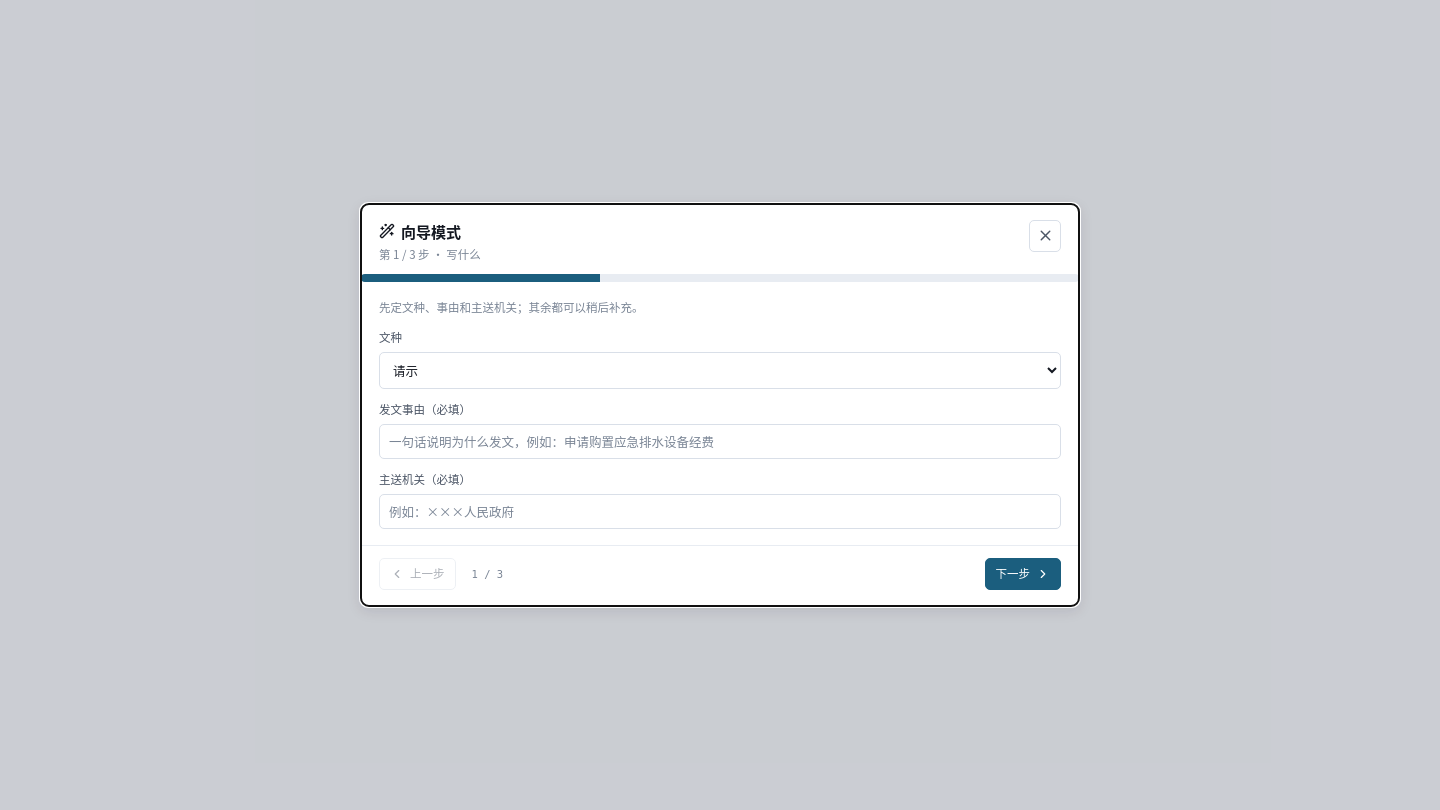
Scenario: DraftWizard › does not submit without a model but offers provider settings
Type "开展汛前检查" into the field labelled "发文事由（必填）".
click(720, 442); type("开展汛前检查")  # box [379, 424, 1061, 459]
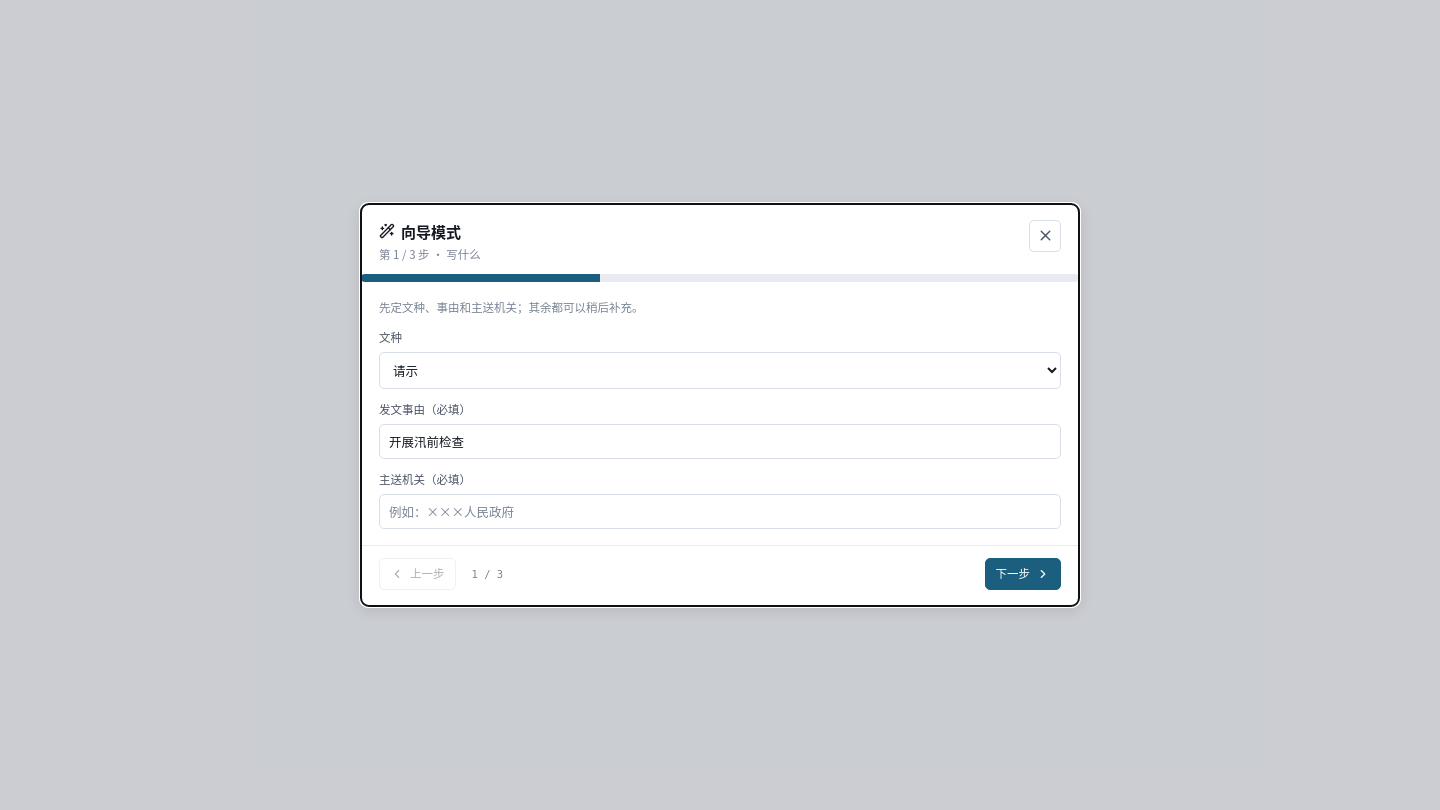
Type "×××单位" into the field labelled "主送机关（必填）".
click(720, 512); type("×××单位")  # box [379, 494, 1061, 529]
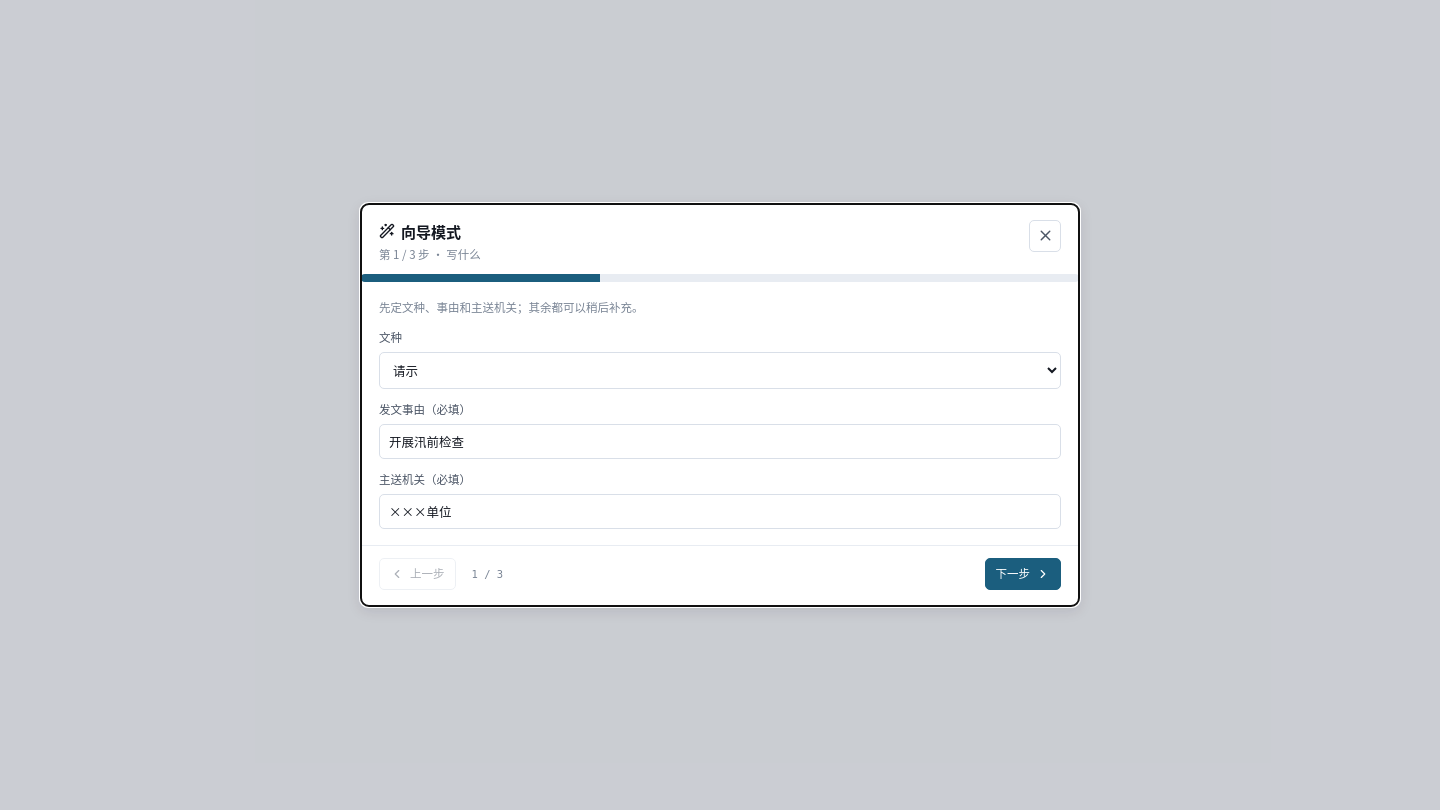
Click the button "下一步".
click(1023, 574)  # box [984, 558, 1061, 590]
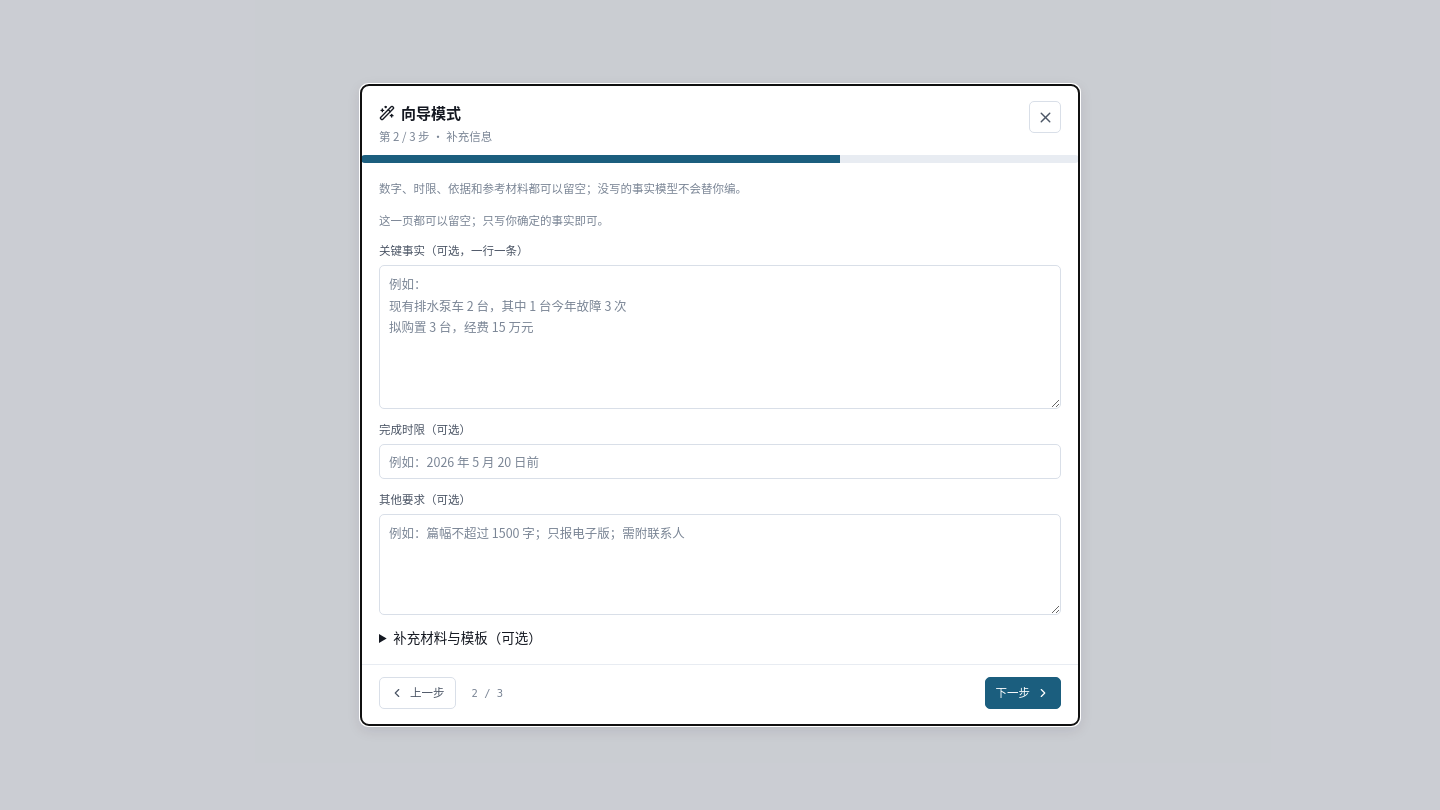
Click the button "下一步".
click(1023, 693)  # box [984, 677, 1061, 709]
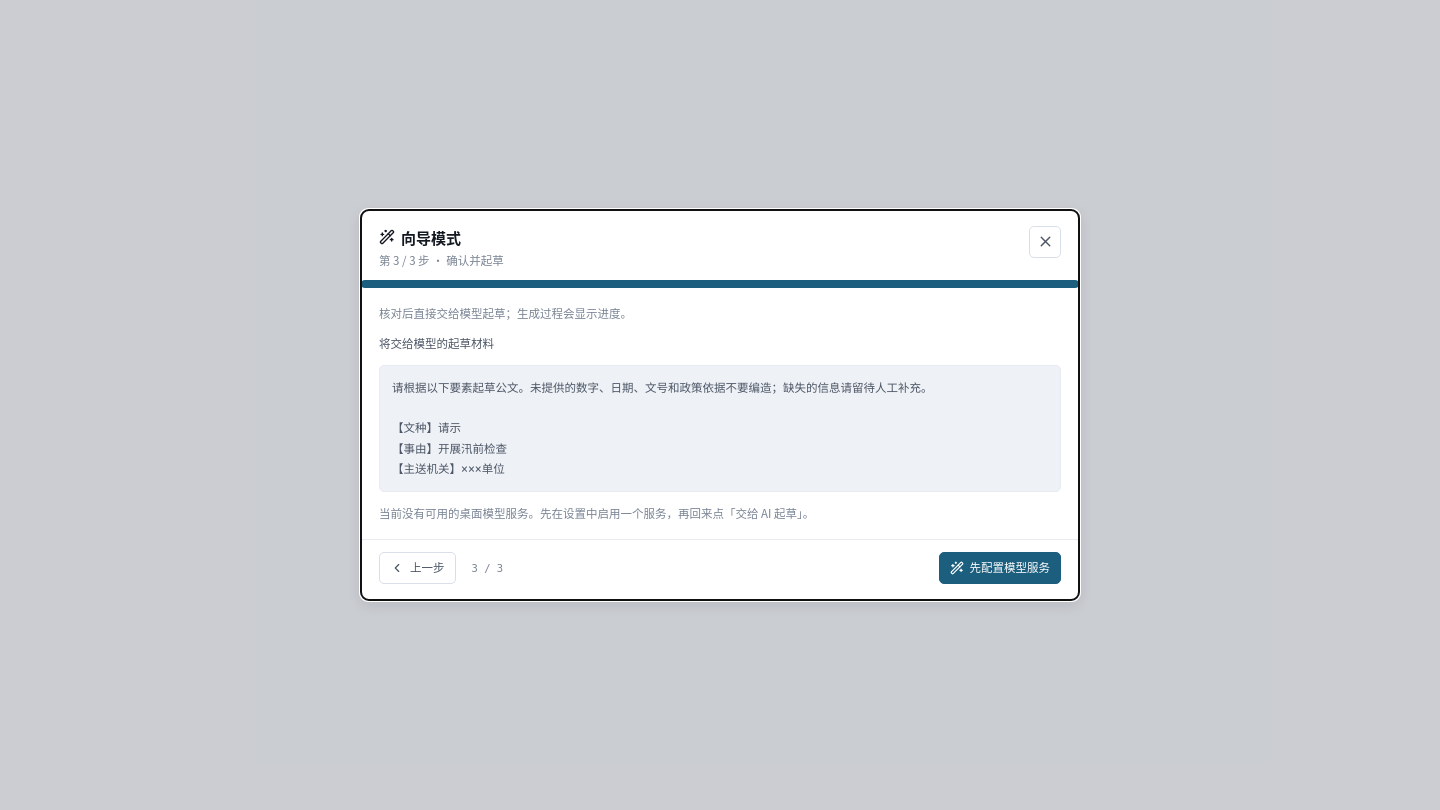
Expected: the button "先配置模型服务" is shown, [938, 552, 1061, 584]
Expected: the text "当前没有可用的桌面模型服务。先在设置中启用一个服务，再回来点「交给 AI 起草」。" is shown, [379, 505, 814, 521]
